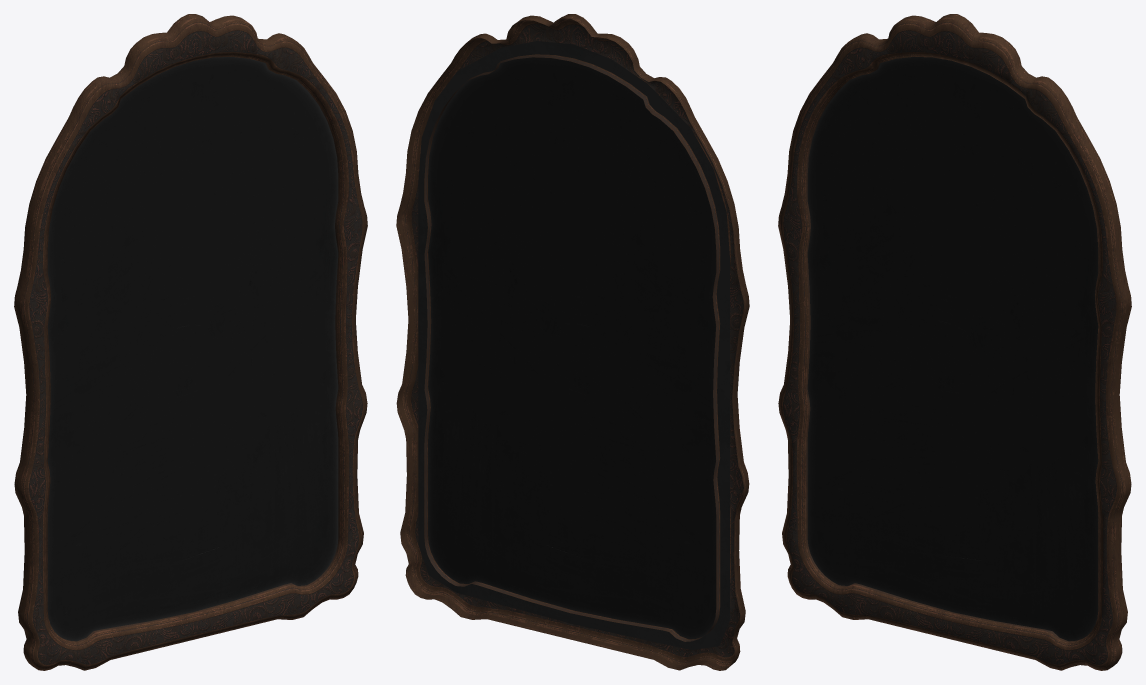
Rendered from Mirror3.fbx.
3 renders of one model, left to right at view 1: azimuth 30°, elevation 25°; view 2: azimuth 150°, elevation 25°; view 3: azimuth 330°, elevation 25°, orthographic.
Visible parts, largest first — view 1: polySurface1226; view 2: polySurface1226; view 3: polySurface1226.
Boxes of the visible parts, x1=… form: polySurface1226: x1=14, y1=14, x2=367, y2=670; polySurface1226: x1=396, y1=14, x2=749, y2=670; polySurface1226: x1=778, y1=14, x2=1131, y2=670.
Bounding box in the file's own units: 67.9 × 117 × 2.6.
